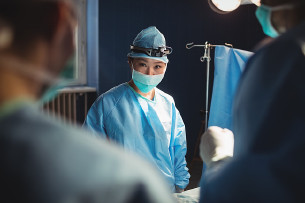face_mask: (131, 53, 166, 94)
